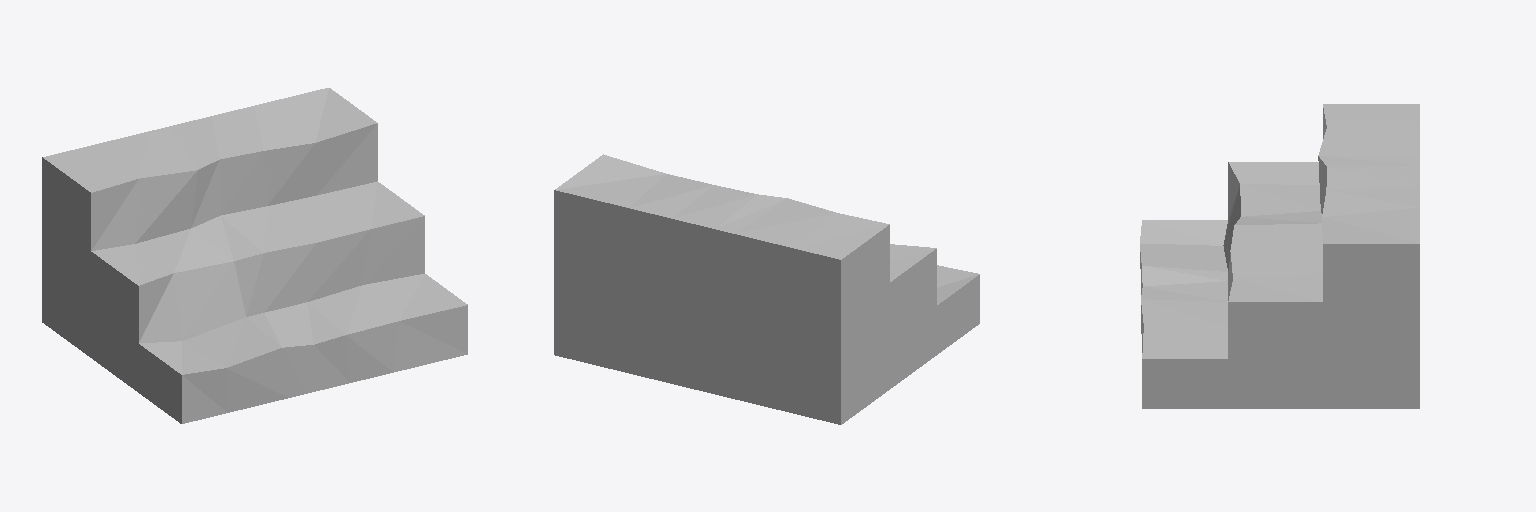
File: steps.obj
3 views of the same model, side by side, from view 1: azimuth 30°, elevation 25°; view 2: azimuth 150°, elevation 25°; view 3: azimuth 270°, elevation 25° (orthographic).
Parts seen in each view (by area): view 1: Cube_Cube.001; view 2: Cube_Cube.001; view 3: Cube_Cube.001.
Part boxes in pixels (x1,y1,x2,y2): Cube_Cube.001: (42, 88, 467, 423); Cube_Cube.001: (554, 154, 979, 424); Cube_Cube.001: (1140, 104, 1419, 408).
Size of the model in its own units: 12.14 by 6.71 by 10.29.